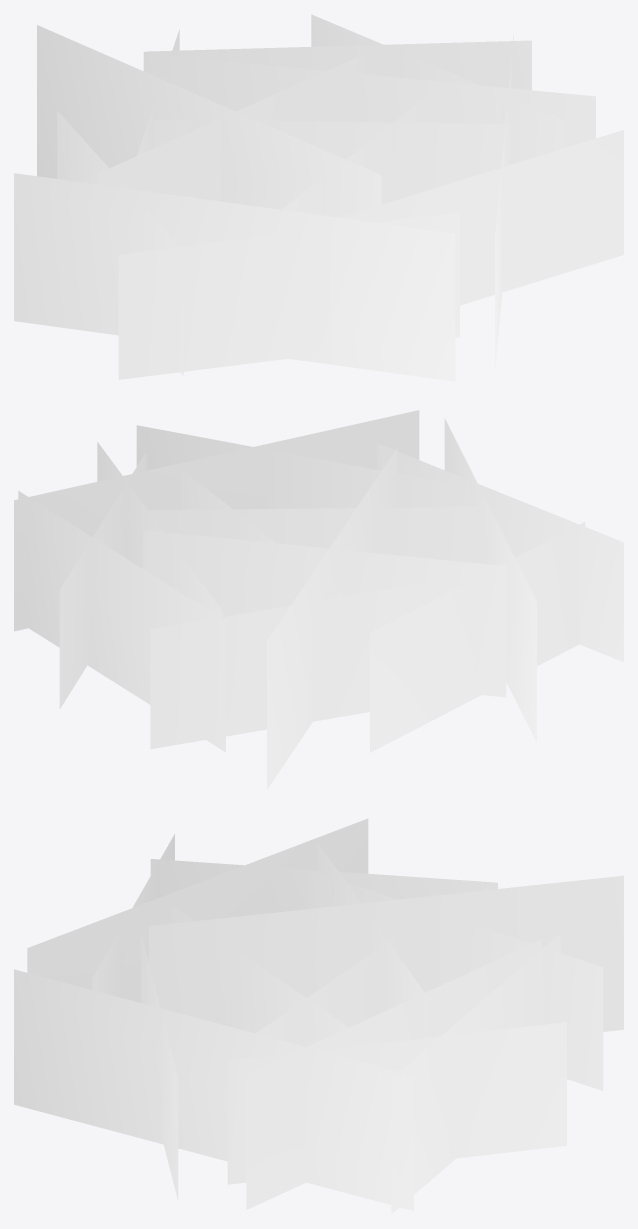
The model's file is SM_Env_Grass_Med_Clump_03.glb.
3 renders of one model, top to bottom at view 1: azimuth 30°, elevation 25°; view 2: azimuth 150°, elevation 25°; view 3: azimuth 270°, elevation 25°, orthographic. The views are drawn at different scales.
Parts seen in each view (by area): view 1: SM_Env_Grass_Med_Clump_03_LOD0; view 2: SM_Env_Grass_Med_Clump_03_LOD0; view 3: SM_Env_Grass_Med_Clump_03_LOD0.
Part boxes in pixels (x1,y1,x2,y2): SM_Env_Grass_Med_Clump_03_LOD0: [14, 14, 623, 381]; SM_Env_Grass_Med_Clump_03_LOD0: [14, 410, 623, 789]; SM_Env_Grass_Med_Clump_03_LOD0: [14, 818, 623, 1214].
Size of what is drawn, in the model's own units: 1.72 by 0.5102 by 1.73.
1 material, 1 textured.
